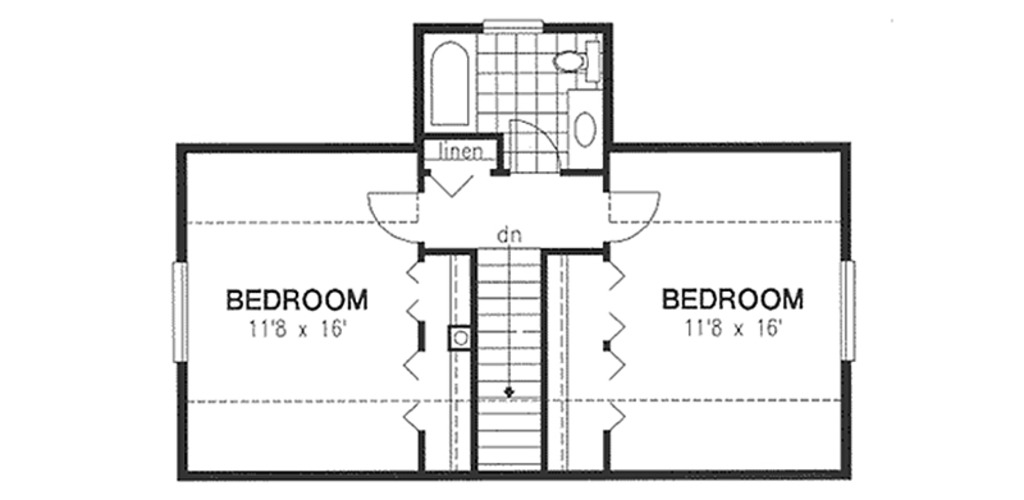door: (364, 190, 435, 256), (502, 110, 563, 182), (601, 182, 666, 242)
large_sink: (549, 30, 608, 91)
small_sink: (568, 85, 608, 174)
stairs: (460, 243, 563, 475)
tub: (421, 24, 479, 134)
window: (839, 263, 863, 368), (171, 262, 190, 358), (482, 13, 545, 33)
